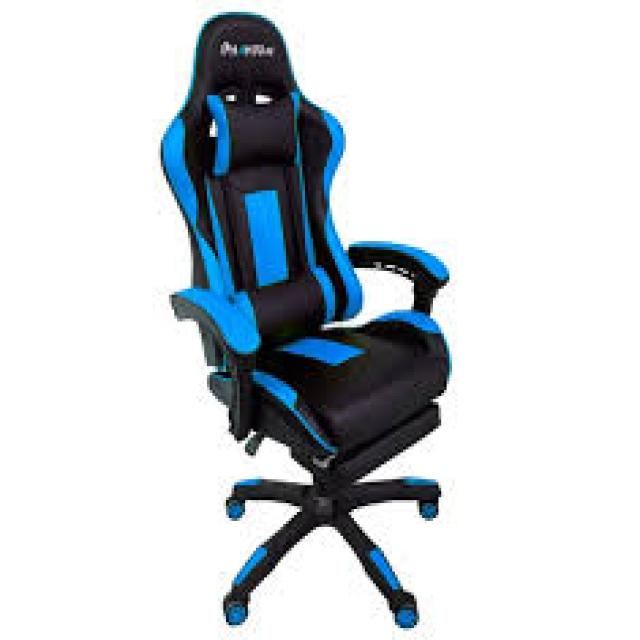bottle: (150, 10, 455, 629)
